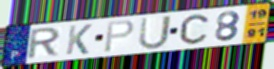8: (215, 10, 242, 42)
C: (179, 13, 210, 46)
K: (64, 23, 94, 56)
P: (103, 19, 136, 54)
R: (25, 26, 64, 61)
U: (138, 14, 173, 51)
